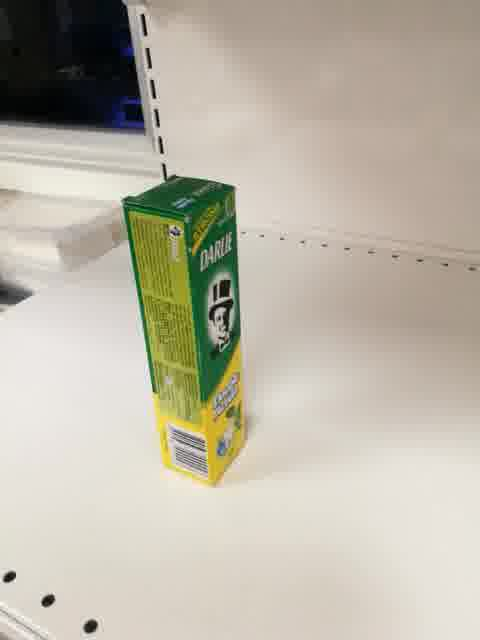toothpaste: (120, 174, 249, 488)
